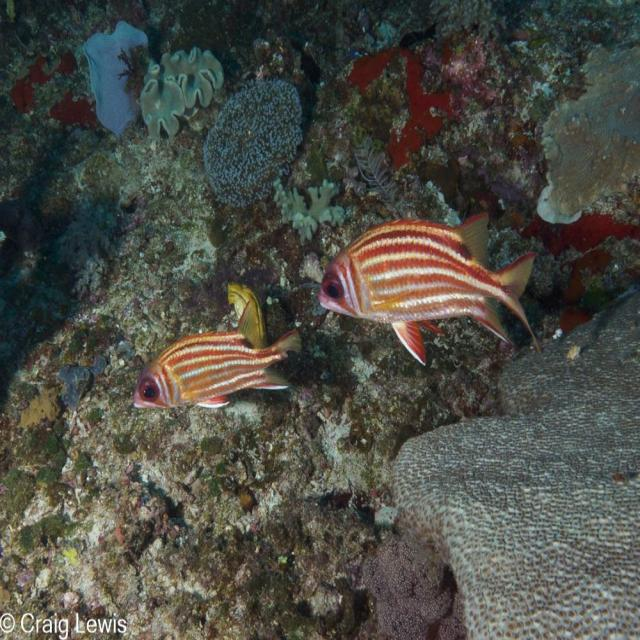Asker Baligi: (301, 205, 556, 374), (123, 320, 304, 430)
